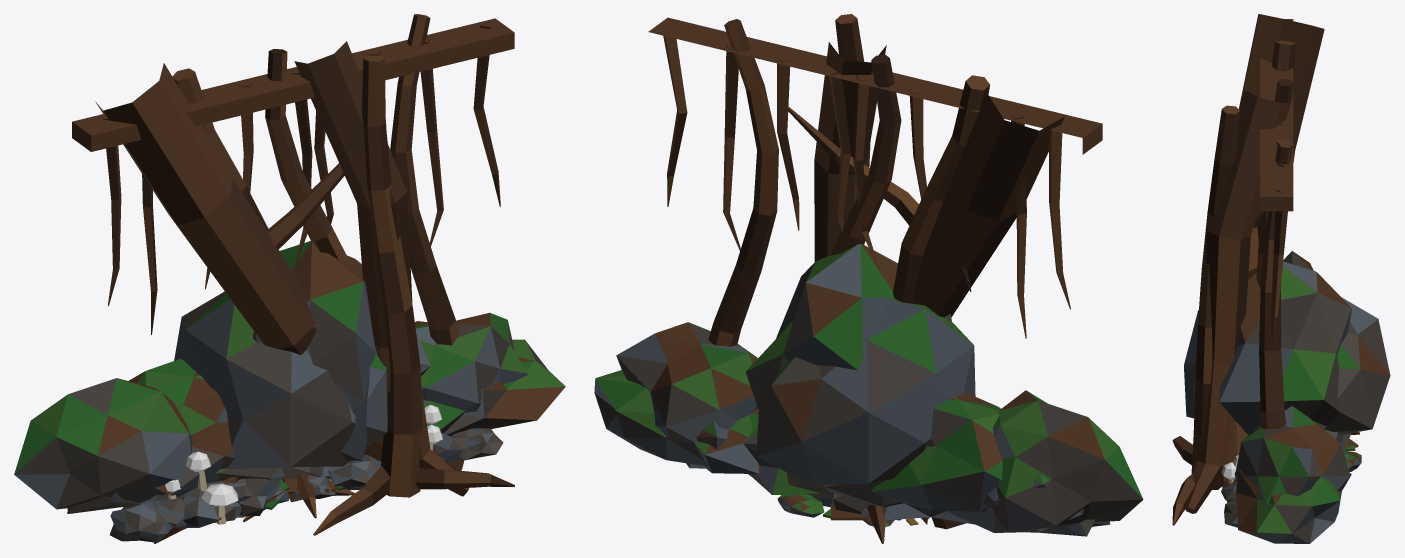
The model's file is dungeon-root.glb.
3 renders of one model, left to right at view 1: azimuth 30°, elevation 25°; view 2: azimuth 150°, elevation 25°; view 3: azimuth 270°, elevation 25°, orthographic. The views are drawn at different scales.
Parts seen in each view (by area): view 1: dk_root_wall1, dk_root_cornerOut, dk_root_wall2, dk_root_cornerIn, dk_root_wall3, dk_root_wall0, dk_root_wall2Glow; view 2: dk_root_cornerOut, dk_root_wall1, dk_root_wall2, dk_root_wall0, dk_root_wall3, dk_root_cornerIn, dk_root_scatter1; view 3: dk_root_cornerIn, dk_root_cornerOut, dk_root_wall0, dk_root_wall2, dk_root_wall1, dk_root_wall3, dk_root_scatter1.
Part boxes in pixels (x1,y1,x2,y2): dk_root_wall1: [95, 63, 464, 542]; dk_root_cornerOut: [174, 41, 468, 496]; dk_root_wall2: [14, 49, 565, 524]; dk_root_cornerIn: [253, 55, 514, 535]; dk_root_wall3: [67, 18, 514, 527]; dk_root_wall0: [149, 14, 528, 543]; dk_root_wall2Glow: [165, 405, 442, 506]; dk_root_cornerOut: [756, 42, 975, 484]; dk_root_wall1: [694, 93, 1091, 527]; dk_root_wall2: [594, 55, 1143, 532]; dk_root_wall0: [608, 19, 1095, 536]; dk_root_wall3: [648, 17, 1110, 532]; dk_root_cornerIn: [746, 14, 951, 410]; dk_root_scatter1: [777, 494, 900, 526]; dk_root_cornerIn: [1172, 105, 1351, 525]; dk_root_cornerOut: [1185, 90, 1390, 513]; dk_root_wall0: [1224, 40, 1350, 536]; dk_root_wall2: [1221, 79, 1351, 543]; dk_root_wall1: [1221, 14, 1351, 502]; dk_root_wall3: [1260, 19, 1349, 468]; dk_root_scatter1: [1344, 439, 1361, 471].
Bounding box in the file's own units: 4.8 × 3.94 × 1.97.
